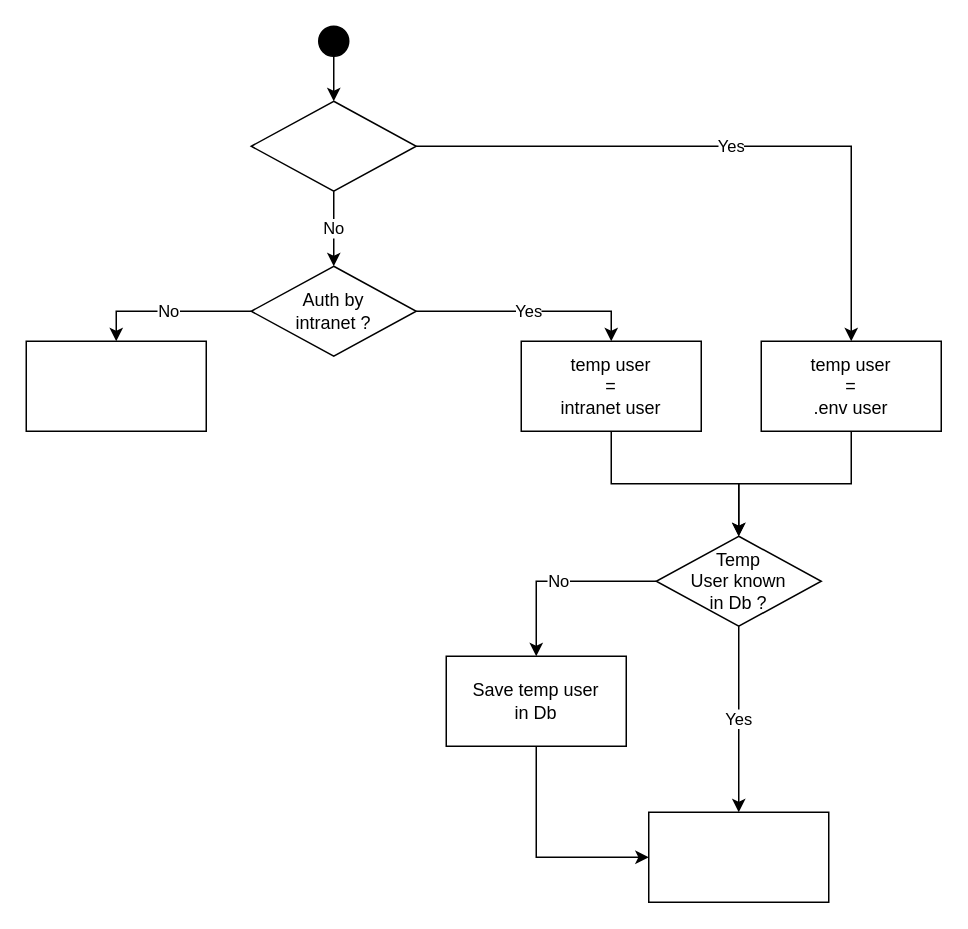
The diagram is 968 pixels wide and 929 high, and some of its shapes have lost their labels. Here are the shapes that lost their labels. From the top down, the centre of each, then its label:
point 333,145: User in .env ?
point 115,385: Redirect to intranet
point 738,856: current user = Db user
